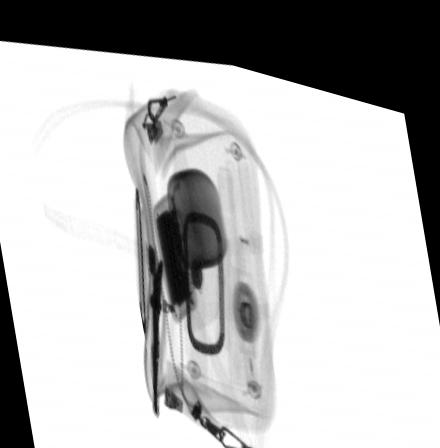Powerbank: (153, 186, 200, 314)
Scissors: (146, 233, 166, 416)
